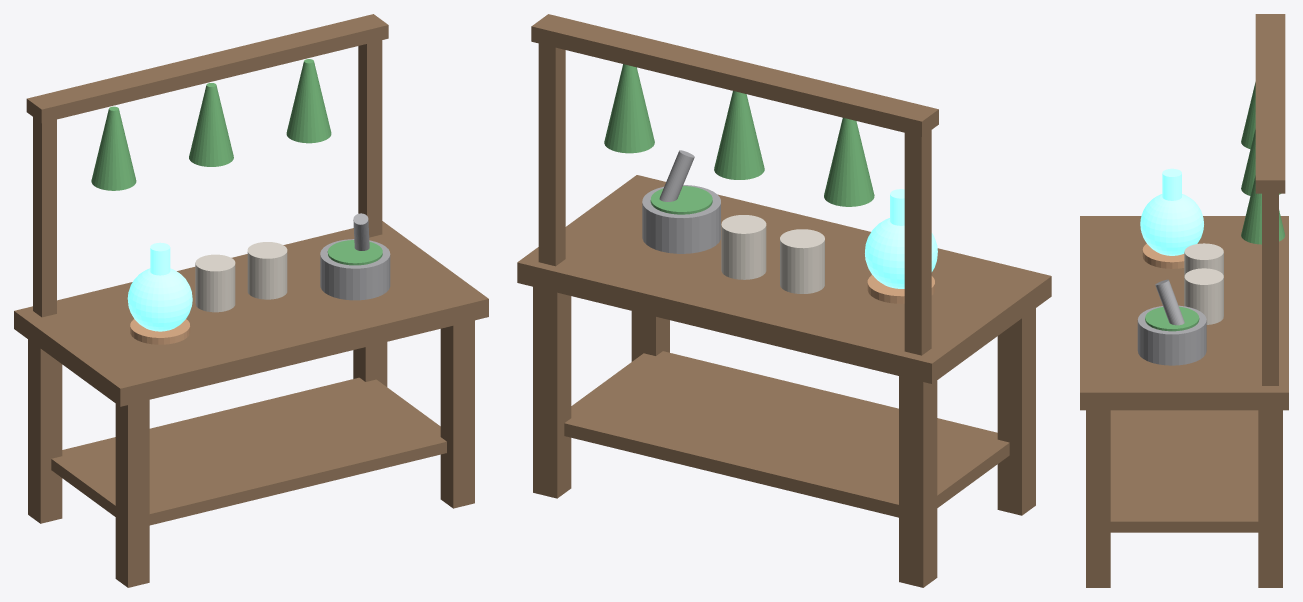
The model's file is apothecary_bench.glb.
3 views of the same model, side by side, from view 1: azimuth 30°, elevation 25°; view 2: azimuth 150°, elevation 25°; view 3: azimuth 270°, elevation 25° (orthographic). The views are drawn at different scales.
Parts seen in each view (by area): view 1: Cube.004, Cube.005, Cube.008, Cube, Cube.002, Cube.001, Cube.006, Cube.007, Sphere, Cylinder, Cone, Cone.002 (+7 smaller); view 2: Cube.004, Cube.005, Cube.008, Cube.001, Cube.003, Cube, Cube.006, Cube.007, Cylinder, Cone.002, Cone, Cone.001 (+7 smaller); view 3: Cube.004, Cube.005, Cube.008, Cube.002, Cube.003, Cube.007, Sphere, Cylinder, Cylinder.006, Cylinder.005, Cone.002, Cylinder.001 (+5 smaller).
Part boxes in pixels (x1,y1,x2,y2): Cube.004: (14,221,488,406); Cube.005: (51,377,446,525); Cube.008: (26,14,388,122); Cube: (115,400,149,587); Cube.002: (440,320,474,508); Cube.001: (28,339,62,523); Cube.006: (33,117,56,317); Cube.007: (358,40,382,237); Sphere: (127,268,192,331); Cylinder: (320,239,390,300); Cone: (91,106,136,190); Cone.002: (286,59,331,143); Cube.004: (517,175,1051,383); Cube.005: (564,351,1009,517); Cube.008: (531,14,938,136); Cube.001: (899,376,937,587); Cube.003: (533,287,571,498); Cube: (997,308,1035,515); Cube.006: (904,130,931,355); Cube.007: (538,43,565,266); Cylinder: (642,185,720,253); Cone.002: (604,64,654,153); Cone: (824,117,874,206); Cone.001: (714,91,764,179); Cube.004: (1080,216,1288,410); Cube.005: (1110,410,1258,532); Cube.008: (1255,14,1285,193); Cube.002: (1086,410,1110,587); Cube.003: (1258,410,1282,587); Cube.007: (1262,193,1278,385); Sphere: (1140,194,1203,255); Cylinder: (1137,305,1206,365); Cylinder.006: (1184,268,1223,324); Cylinder.005: (1184,243,1223,276); Cone.002: (1241,175,1285,244); Cylinder.001: (1145,306,1199,331).
Bounding box in the file's own units: 1.7 × 1.83 × 0.85.
